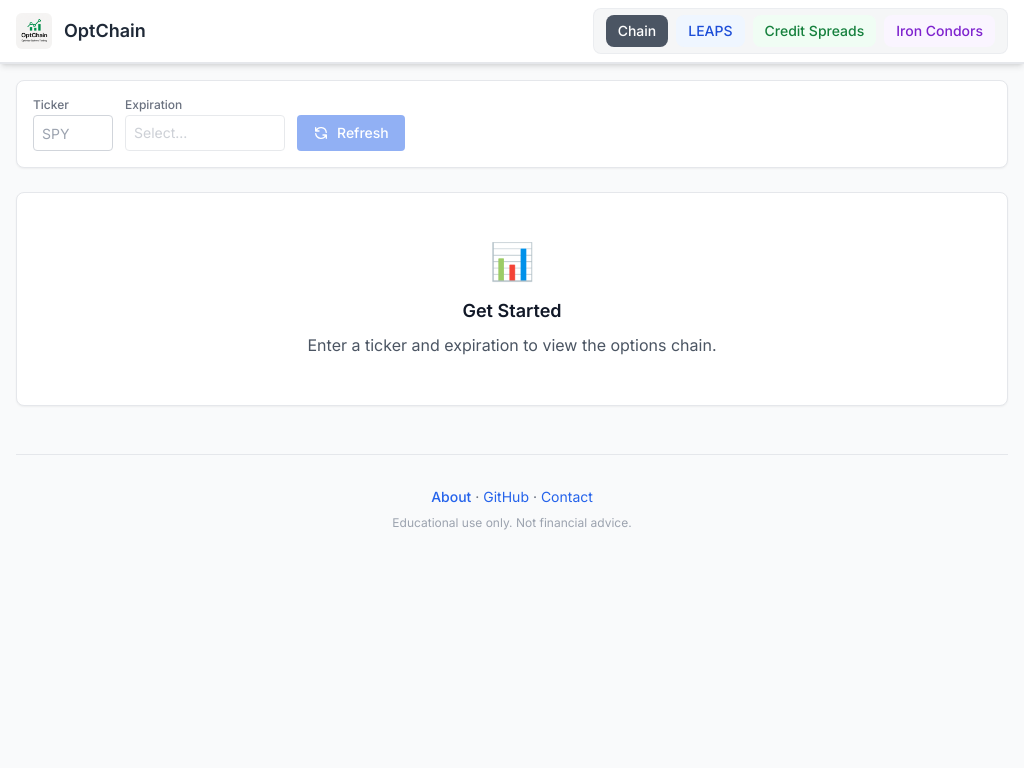
ChainAnalysisPage - Expiration Fetching › should handle API error
Type "BAD" into the field with placeholder "SPY" at (73, 133), box [33,115,113,151]
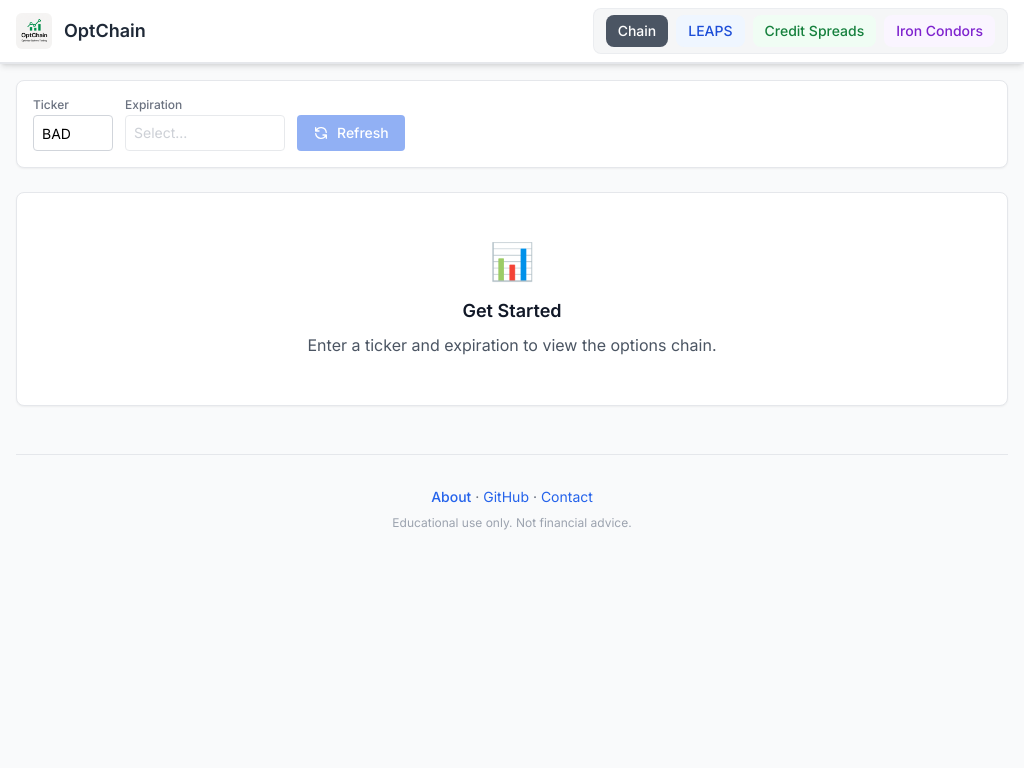
Press Enter in the field with placeholder "SPY", box [33,115,113,151]
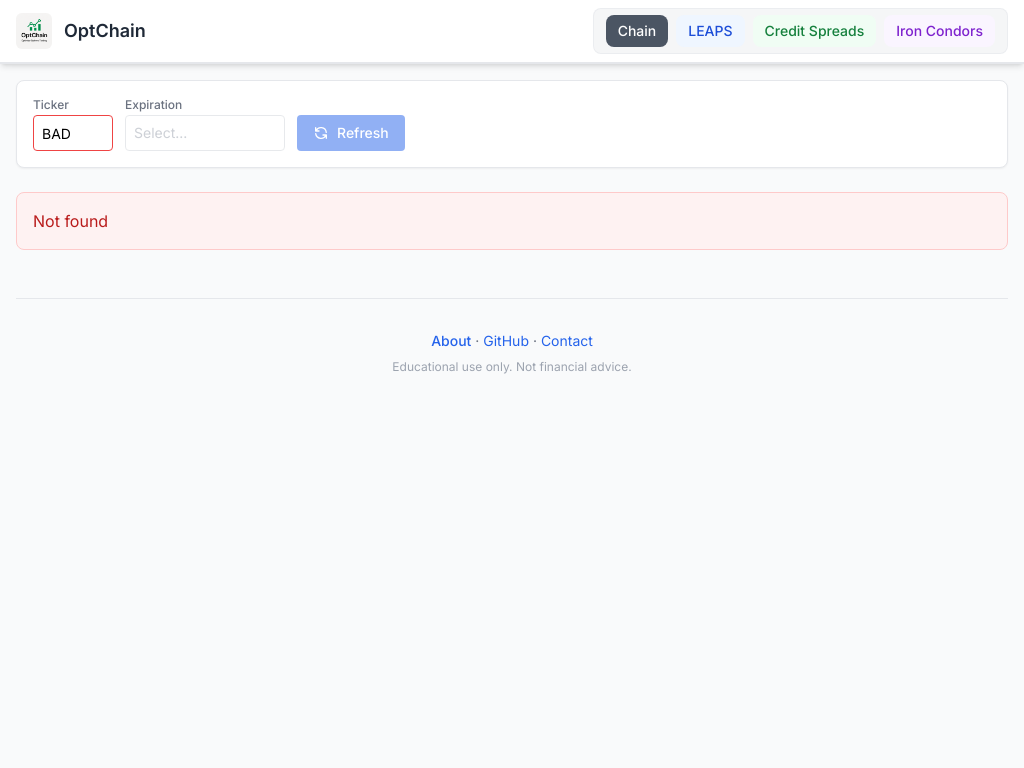
Now the text "Not found" is shown, box [16,192,1008,250]
